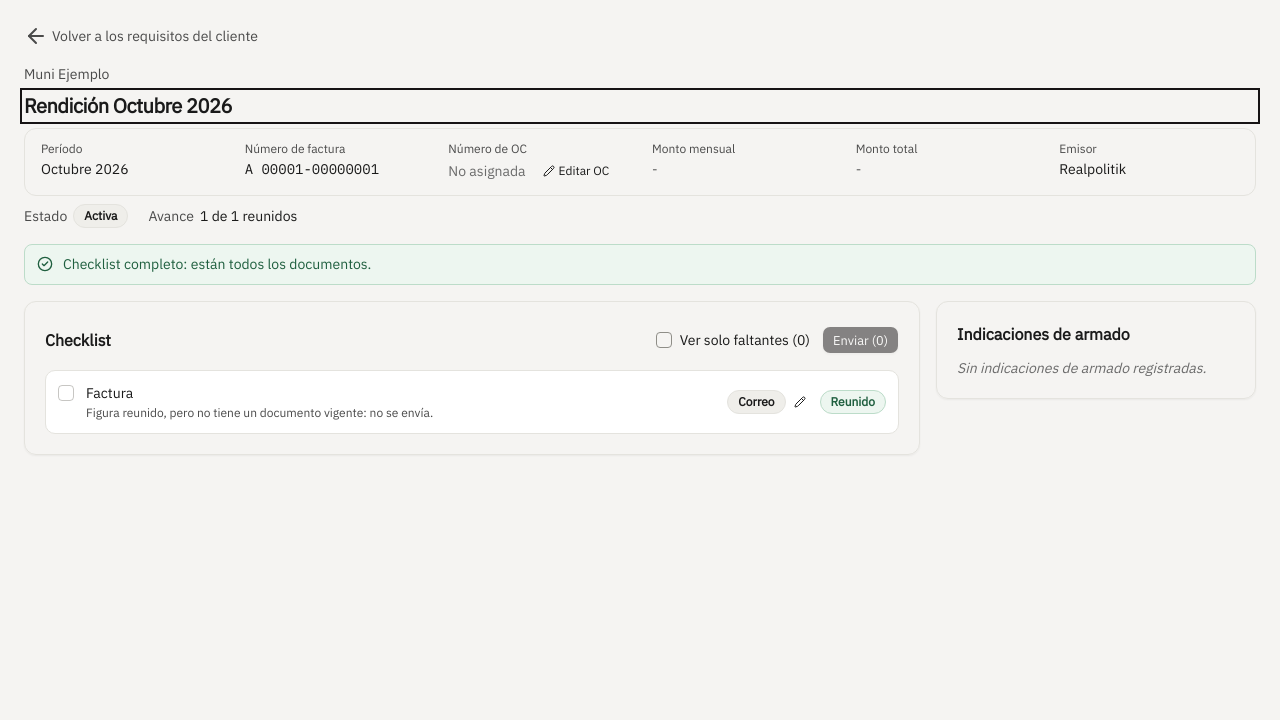
RendicionDetallePage: Orden de Compra (HU2.11) › si la rendición se anuló mientras tanto (409 RENDICION_ANULADA), lo avisa sin cerrar el panel
The image size is (1280, 720).
Expected: the heading "Rendición Octubre 2026" is shown, x1=24 y1=92 x2=232 y2=119
Click the button "Editar OC" at {"x": 576, "y": 171}, box x1=534 y1=159 x2=618 y2=183
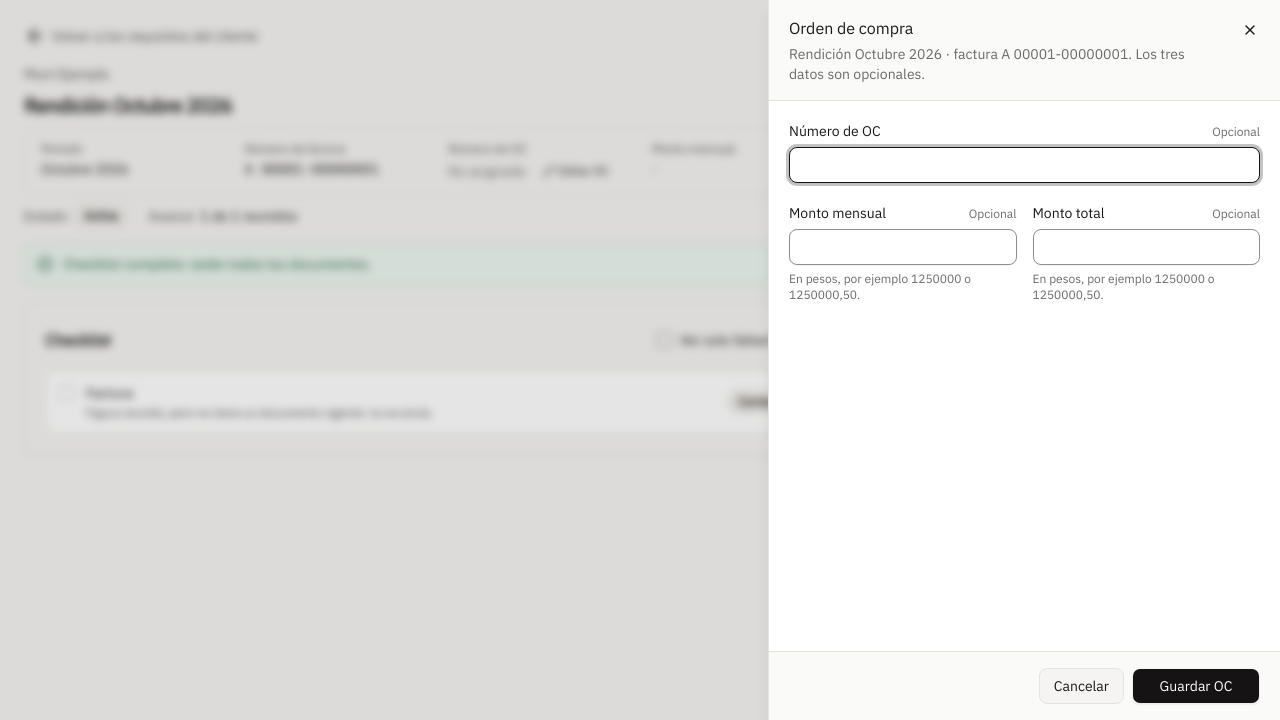
Type "OC-342" into the field labelled "Número de OC" at {"x": 1024, "y": 165}, box x1=789 y1=147 x2=1260 y2=183
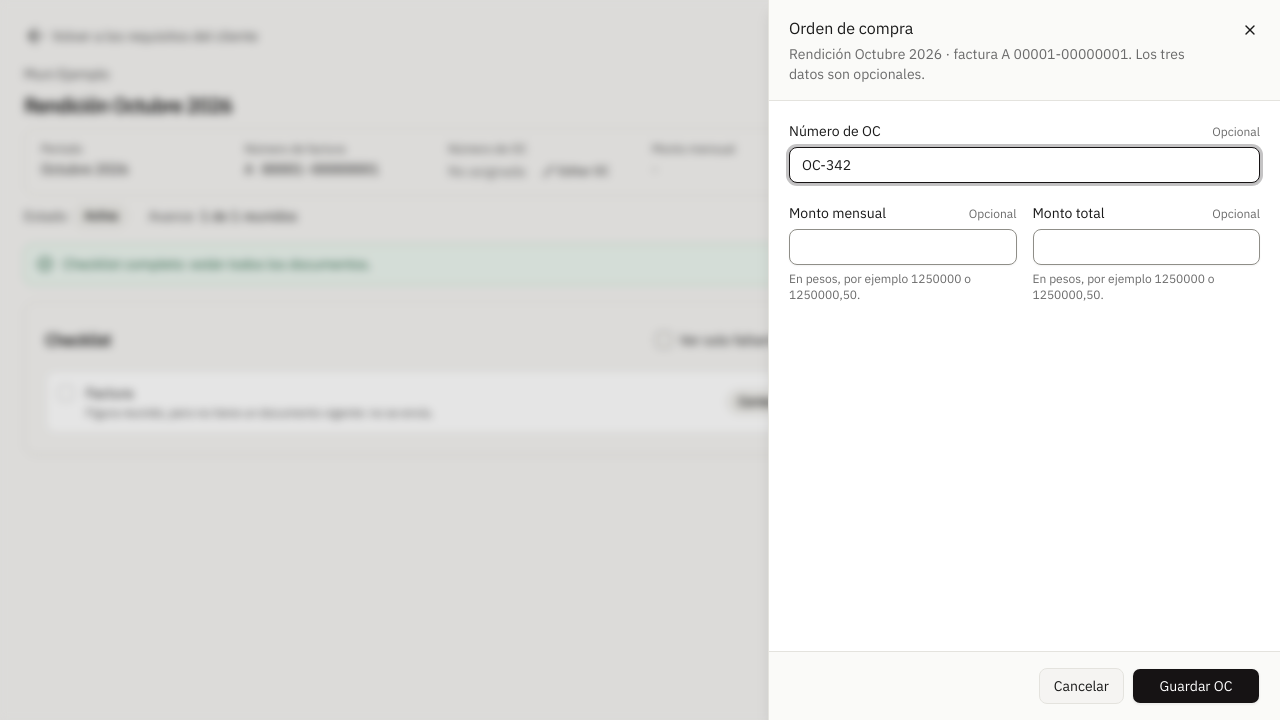
Click the button "Guardar OC" at {"x": 1196, "y": 686}, box x1=1132 y1=668 x2=1260 y2=704
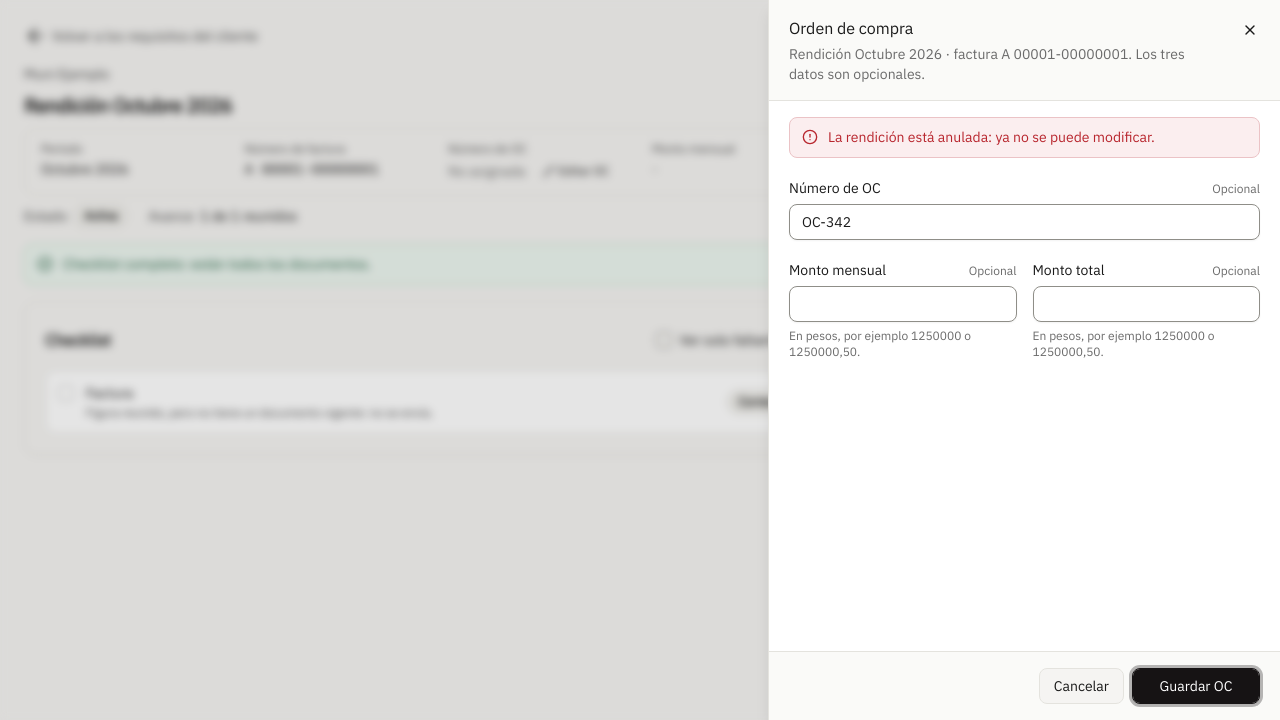
Result: the dialog "Orden de compra" is shown at x1=768 y1=0 x2=1279 y2=719
Result: the text "La rendición está anulada: ya no se puede modificar." is shown at x1=828 y1=128 x2=1155 y2=146
